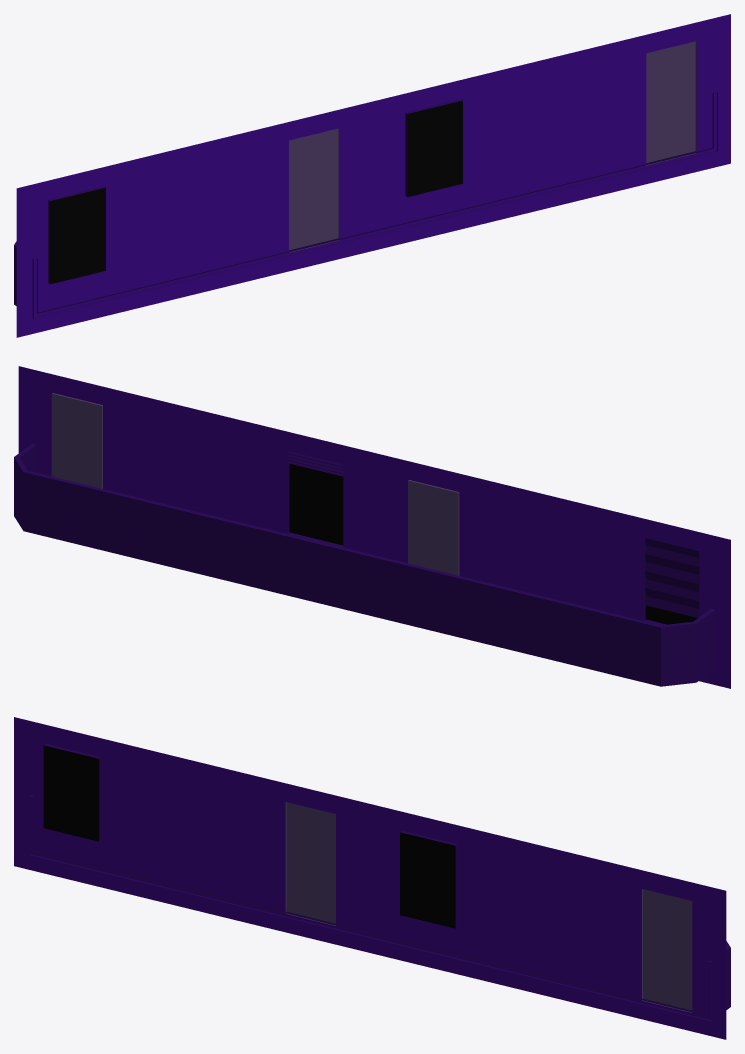
File: DecorativePart2.fbx
3 renders of one model, top to bottom at view 1: azimuth 30°, elevation 25°; view 2: azimuth 150°, elevation 25°; view 3: azimuth 330°, elevation 25°, orthographic.
Parts seen in each view (by area): view 1: Plane.004; view 2: Plane.004; view 3: Plane.004.
Boxes of the visible parts, x1,y1,x2,y2 form: Plane.004: (14,14,730,337); Plane.004: (14,366,730,688); Plane.004: (14,717,730,1039).
Size of the model in its own units: 10000 by 2000 by 812.
